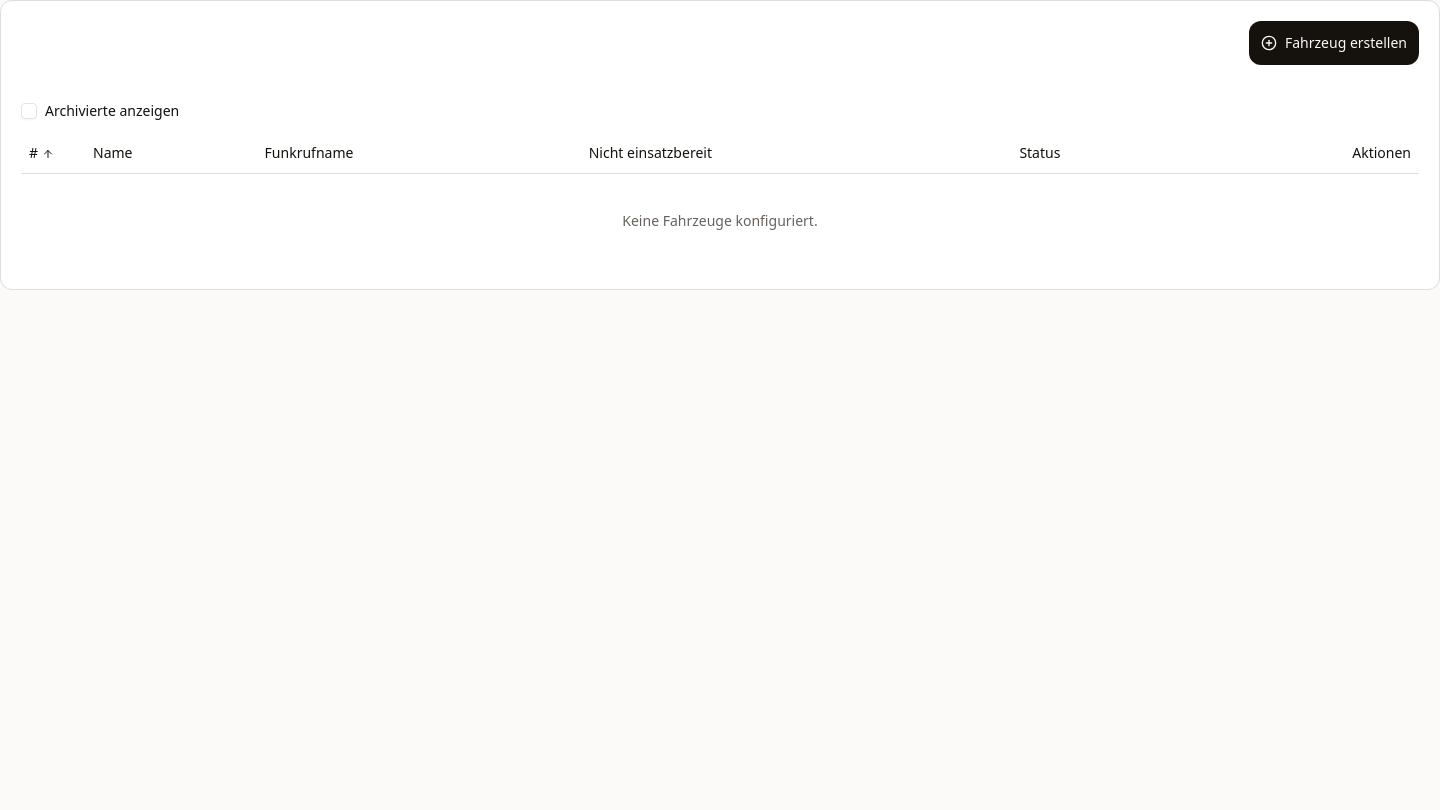
Test: VehicleSettings › warns about unsaved changes when cancelling while dirty
The image size is (1440, 810).
Click the button "Fahrzeug erstellen". click: (1334, 43)
box: [1249, 21, 1419, 65]
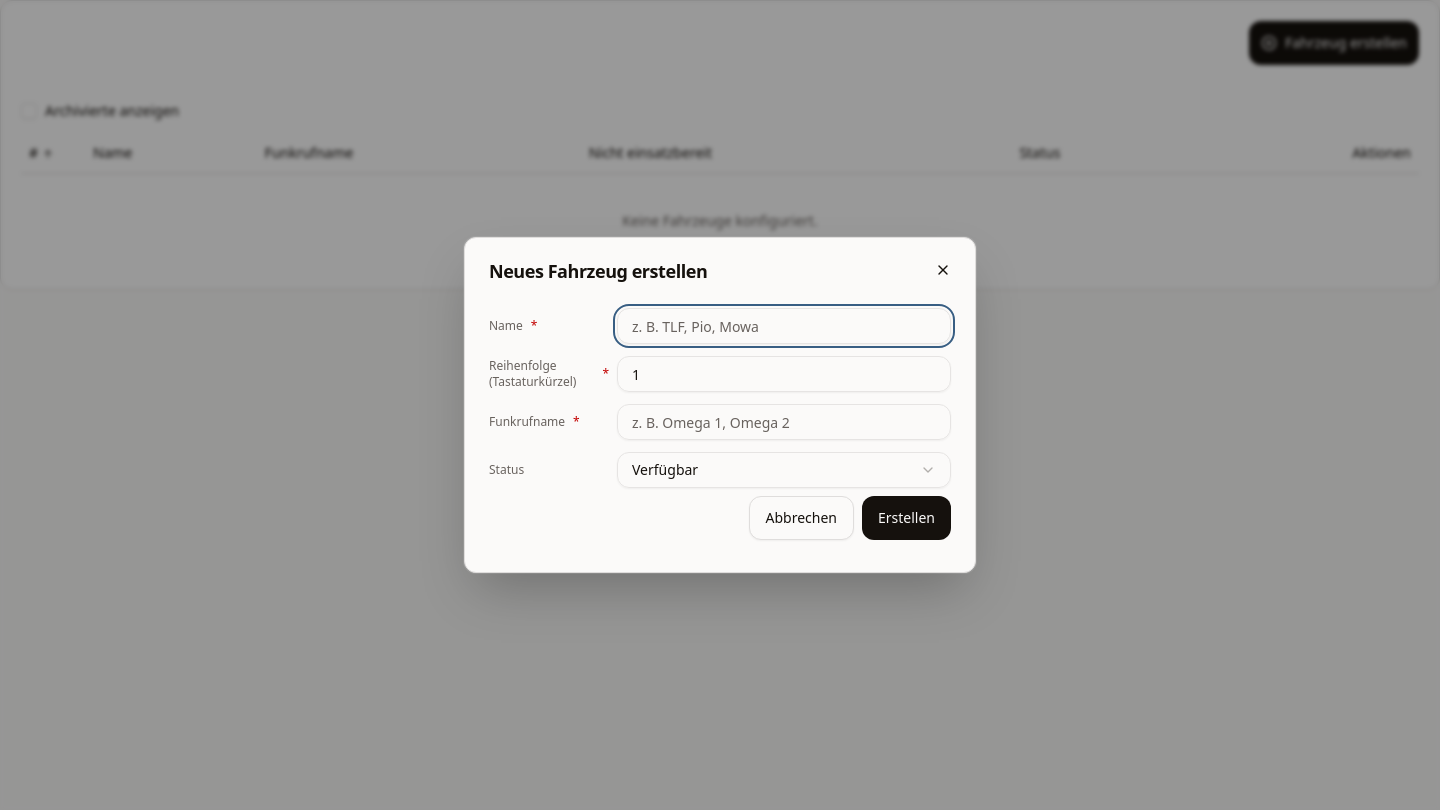
Type "Halffilled" into the field labelled "Name *". click: (784, 326)
box: [617, 308, 951, 344]
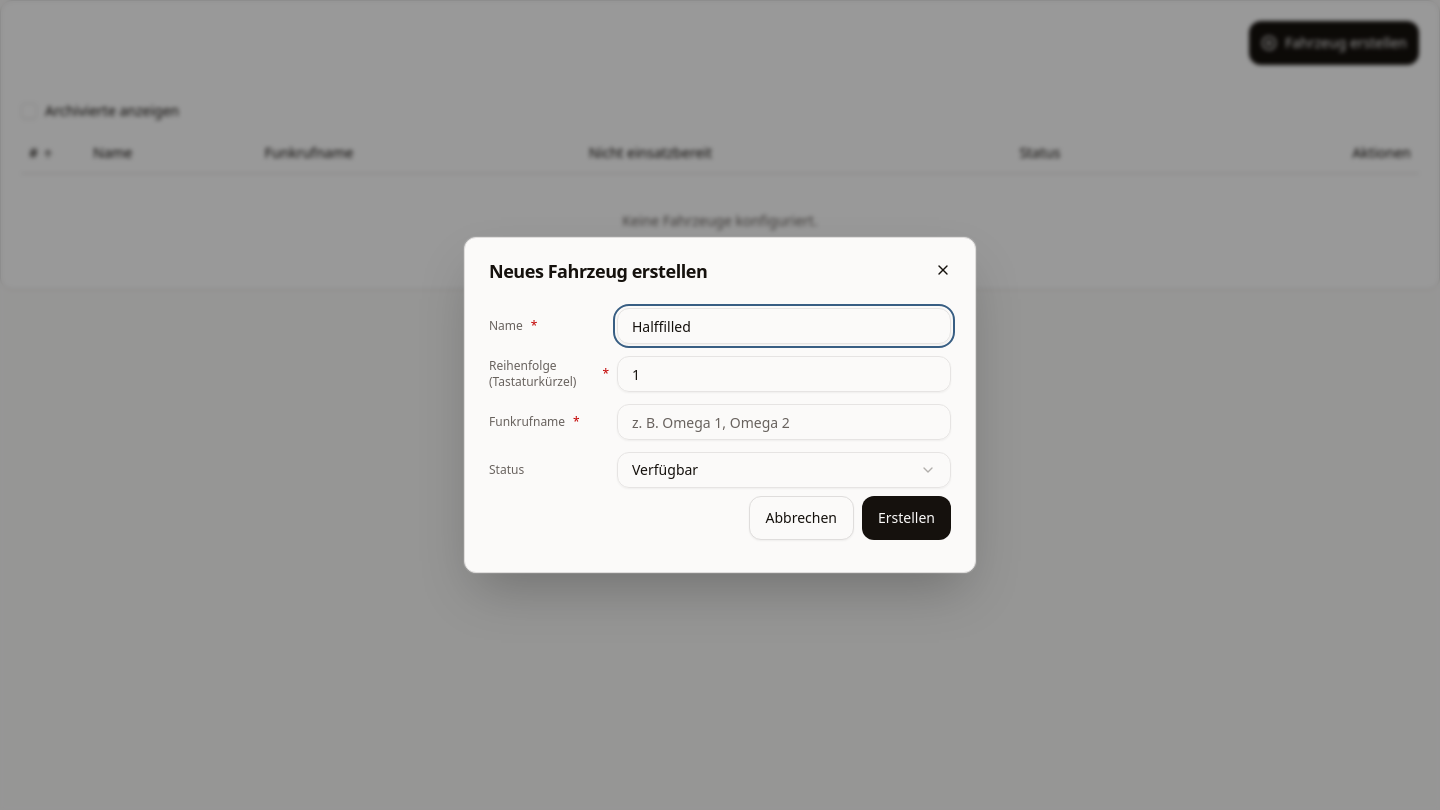
Click the button "Abbrechen". click: (801, 518)
box: [748, 496, 854, 540]
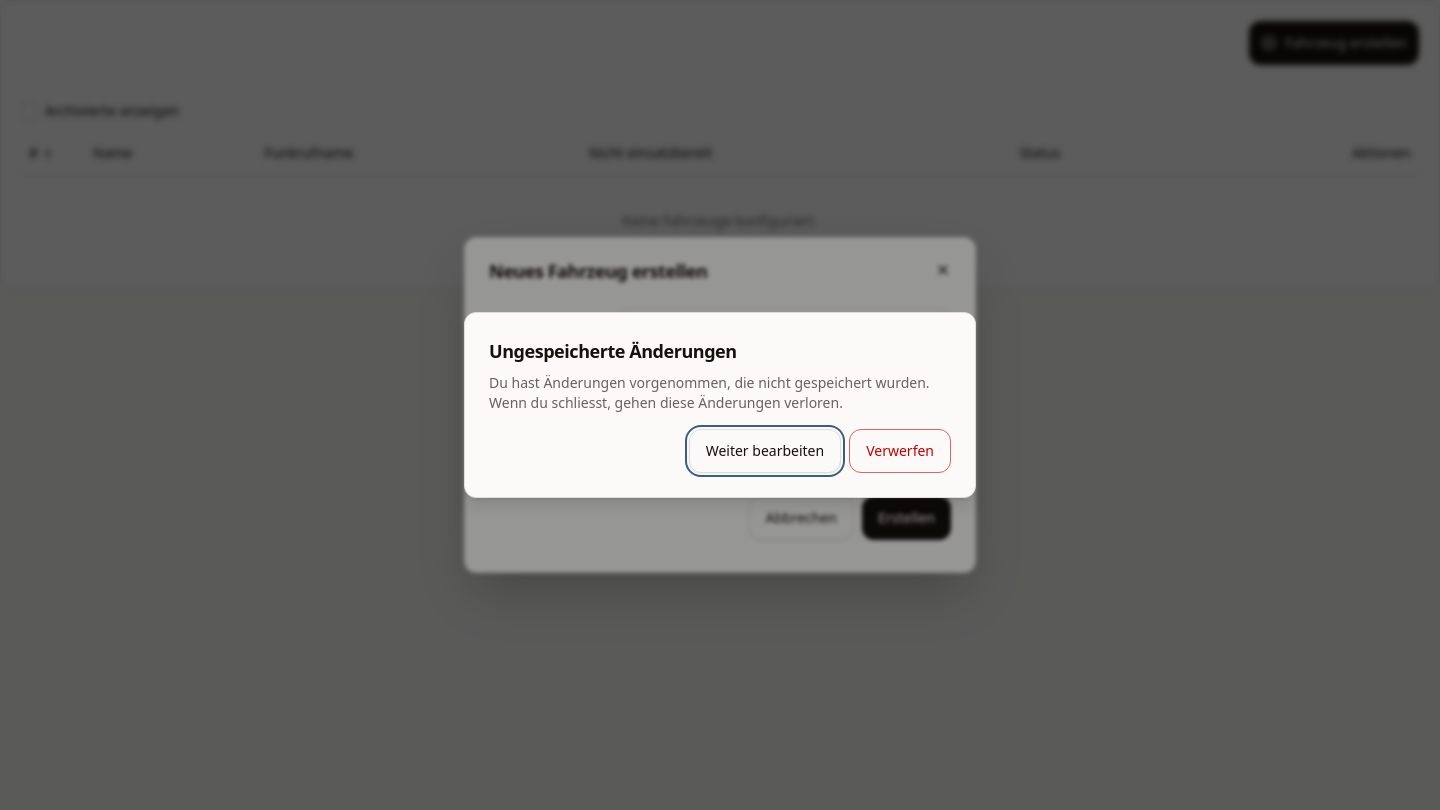
Expected: the heading "Ungespeicherte Änderungen" is shown, [489, 339, 737, 363]
